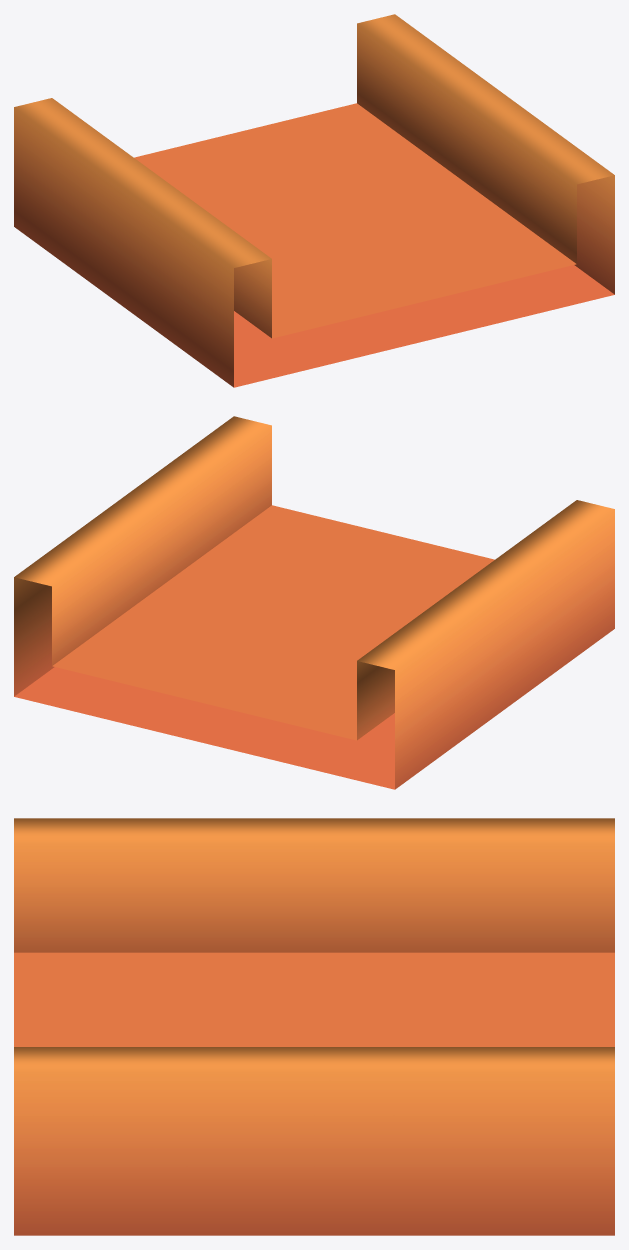
The model's file is track-narrow.glb.
The picture shows the model from 3 angles, top to bottom: view 1: azimuth 30°, elevation 25°; view 2: azimuth 150°, elevation 25°; view 3: azimuth 270°, elevation 25°; orthographic projection. The views are drawn at different scales.
Parts seen in each view (by area): view 1: track-narrow; view 2: track-narrow; view 3: track-narrow.
Part boxes in pixels (x1,y1,x2,y2): track-narrow: (14, 14, 614, 387); track-narrow: (14, 416, 614, 789); track-narrow: (14, 818, 614, 1235).
Size of the model in its own units: 1 by 0.3 by 1.
Materials: 1 (1 with a texture image).
